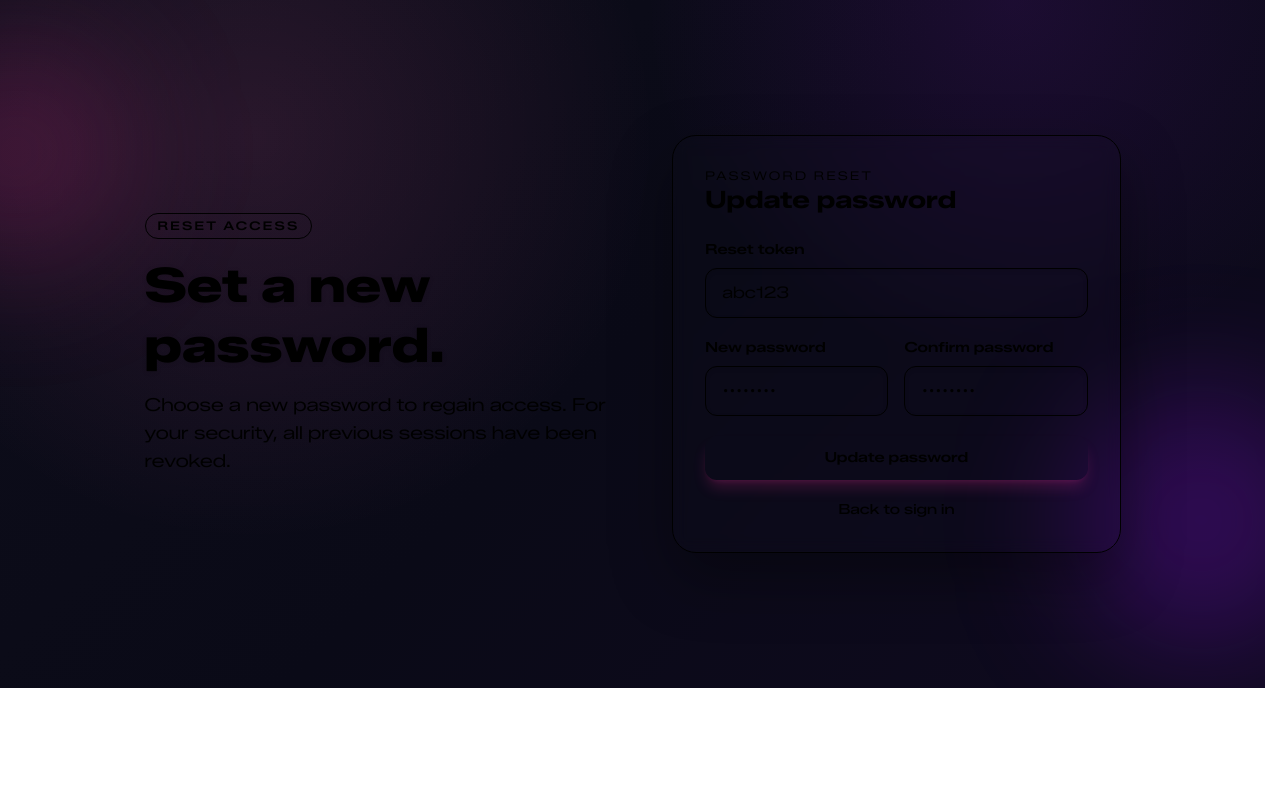
Scenario: ResetPassword › focuses the first invalid field and wires aria-describedby on submit failure
The width and height of the screenshot is (1280, 800).
Type "password123" into the password field labelled "New password" at (797, 391), box [705,366,888,416]
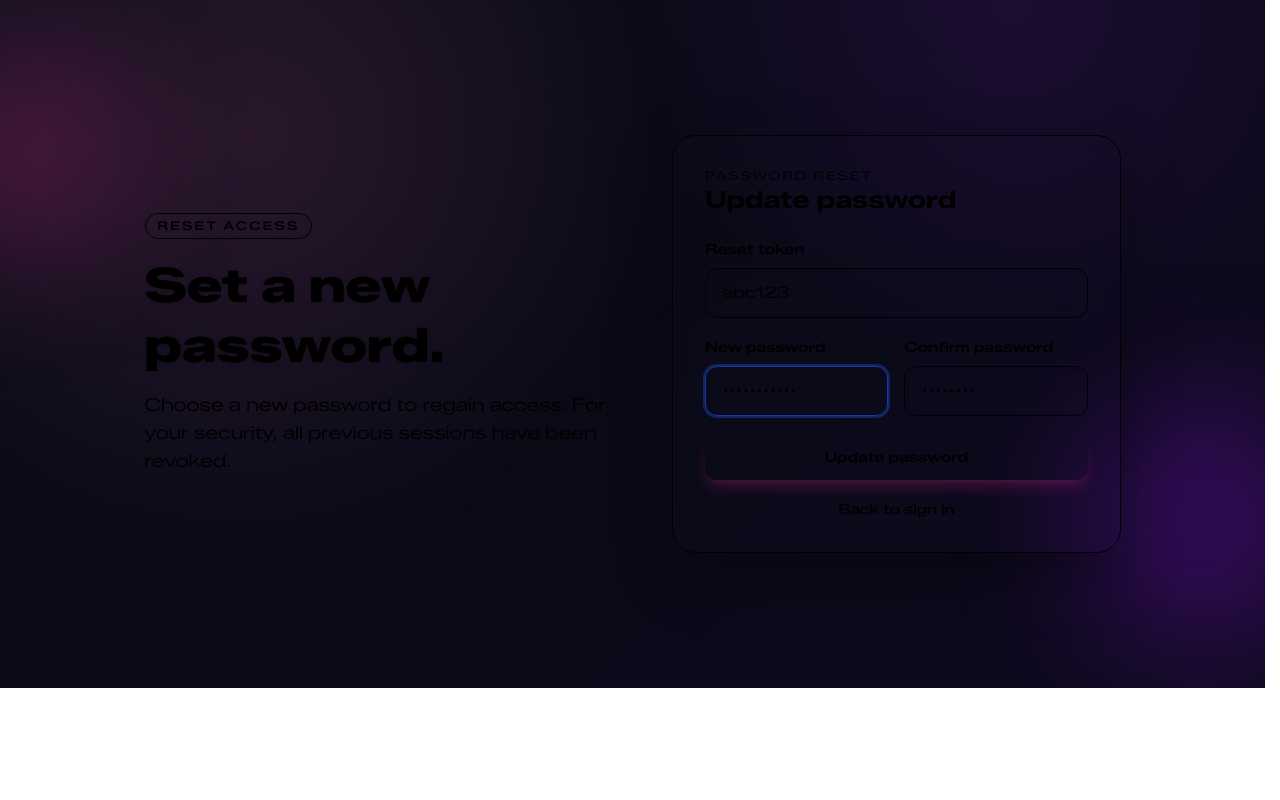
Type "password1234" into the password field labelled "Confirm password" at (996, 391), box [904,366,1088,416]
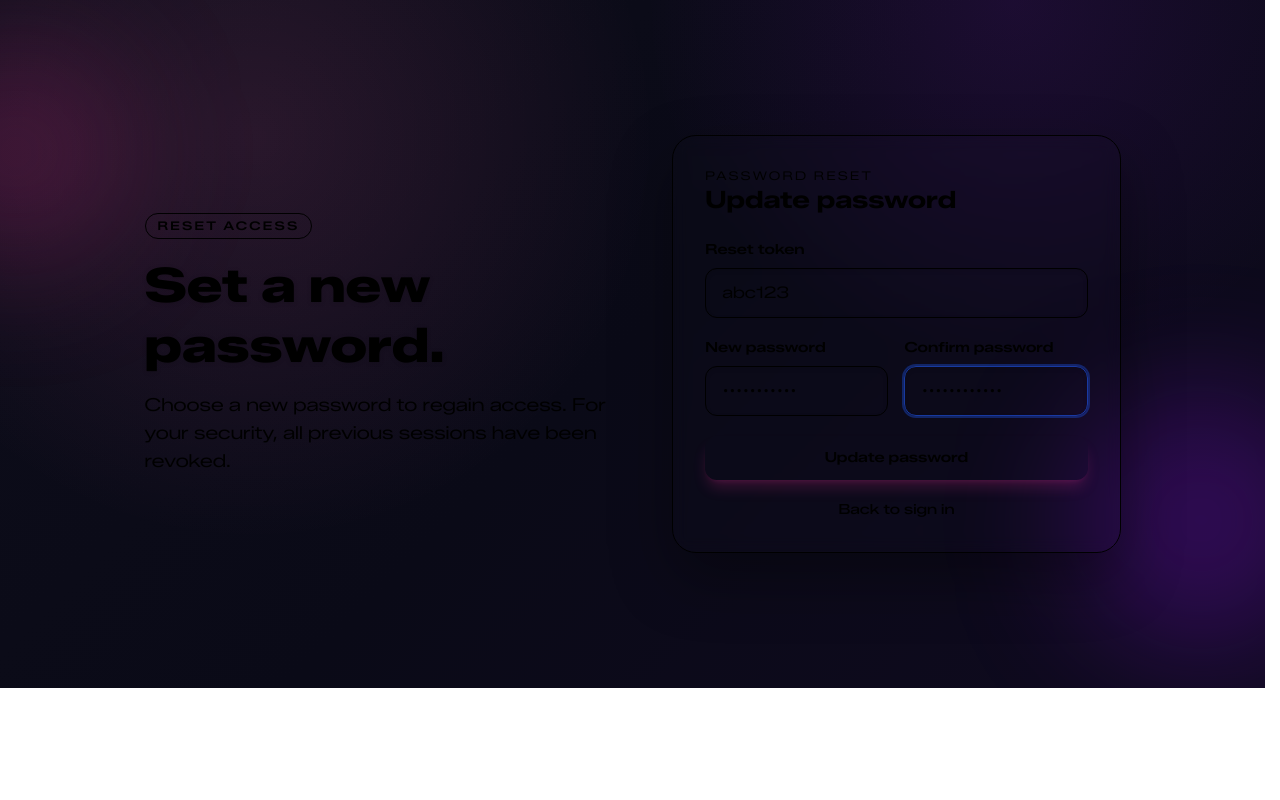
Click the button "Update password" at (896, 458), box [705,436,1088,480]
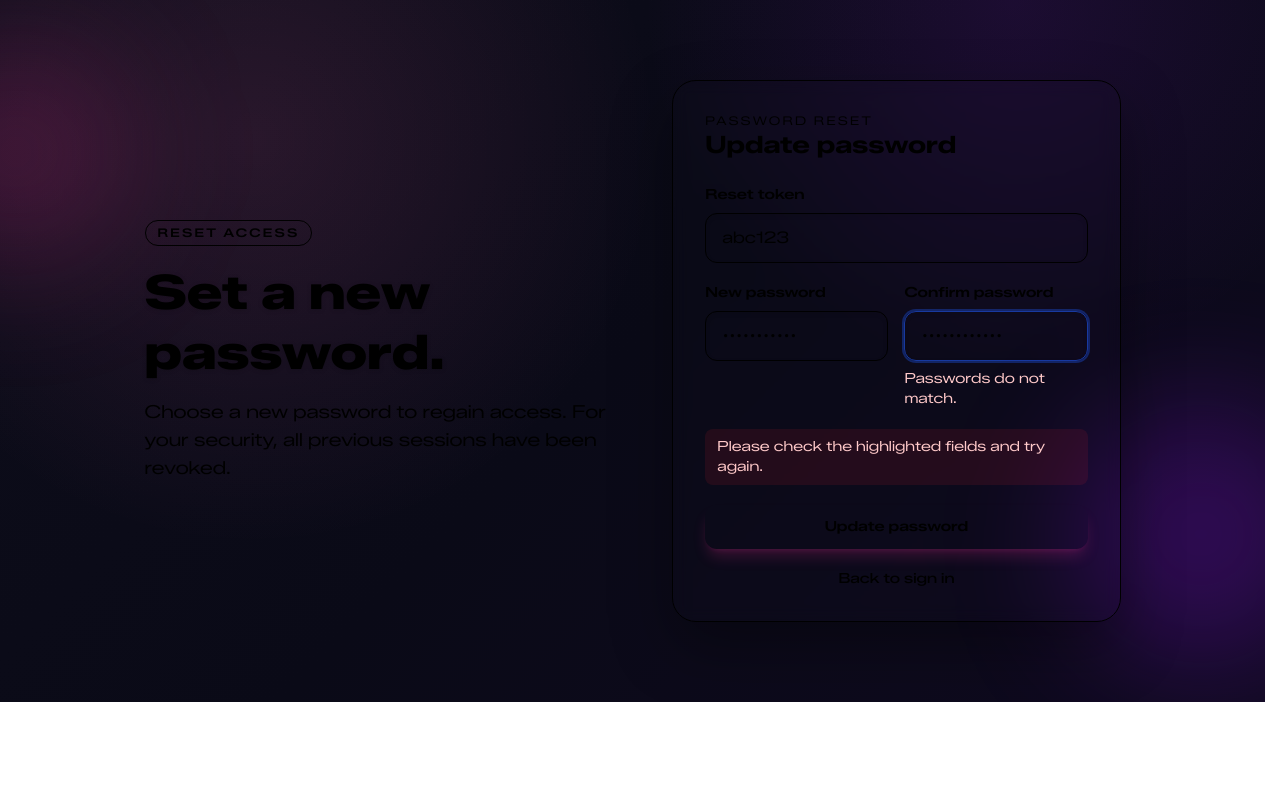
Now the text "Passwords do not match." is shown, box [904,370,1045,407]
